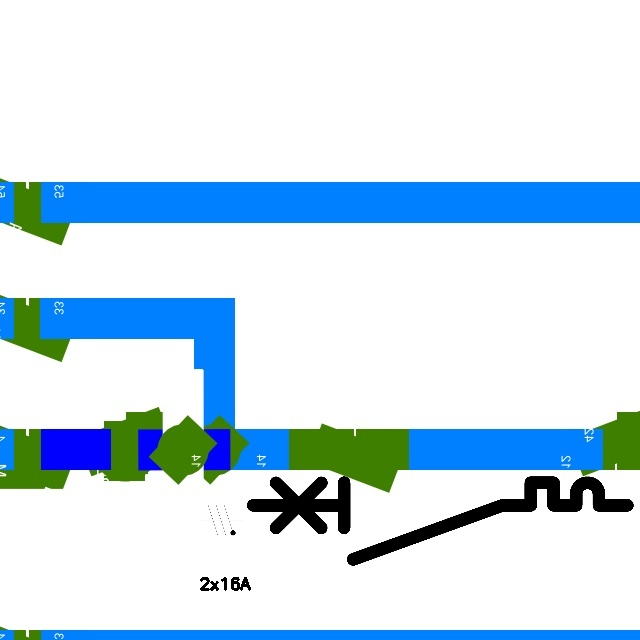interruptor_termomagnetico: (243, 473, 636, 569)
